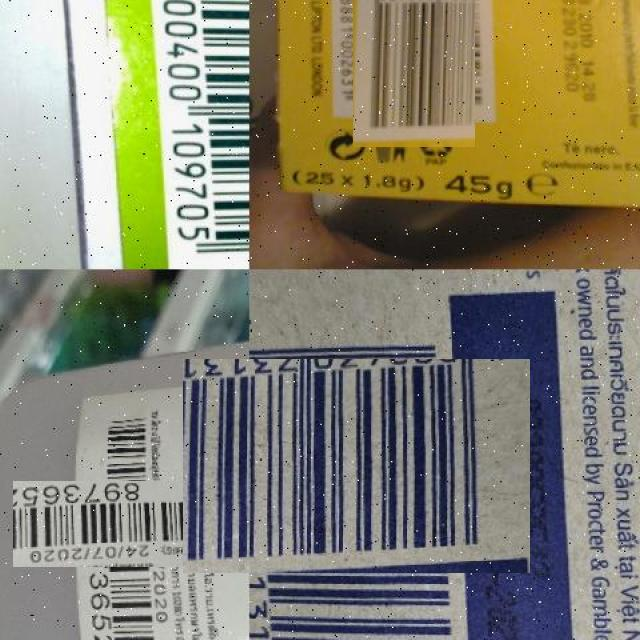Barcode: (216, 326, 497, 607), (155, 0, 249, 270), (49, 445, 208, 604), (340, 0, 488, 135)
